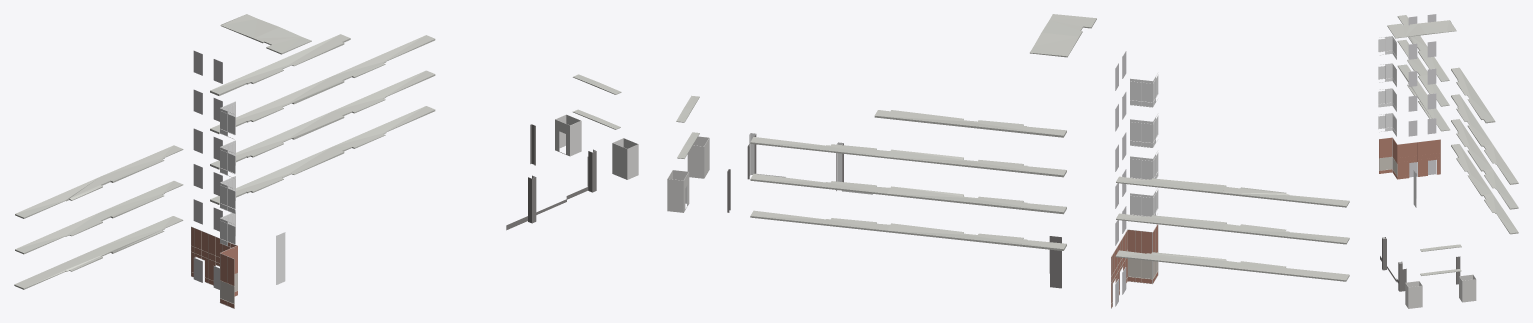
3 views of the same model, side by side, from view 1: azimuth 30°, elevation 25°; view 2: azimuth 150°, elevation 25°; view 3: azimuth 270°, elevation 25° (orthographic). The views are drawn at different scales.
Parts seen in each view (by area): view 1: 5473, 3424, 7540, 3423, 7539, 5472, 10760, 9278, 350; view 2: 5473, 7540, 3424, 3423, 7539, 5472, 10760, 9278, 377, 359, 484; view 3: 5473, 3424, 7540, 10760, 9278, 3423, 5472, 7539, 374, 356, 9284, 3429 (+16 smaller).
Part boxes in pixels (x1,y1,x2,y2): 5473: (210,70,435,169); 3424: (210,106,435,204); 7540: (210,35,435,133); 3423: (14,216,183,289); 7539: (15,145,183,218); 5472: (15,181,183,254); 10760: (220,14,311,54); 9278: (210,34,350,95); 350: (612,143,627,179); 5473: (750,174,1066,214); 7540: (750,137,1066,177); 3424: (750,210,1066,250); 3423: (1115,250,1349,281); 7539: (1116,176,1349,207); 5472: (1116,213,1349,244); 10760: (1030,14,1096,57); 9278: (874,110,1066,137); 377: (667,179,683,212); 359: (688,145,703,178); 484: (1049,249,1061,288); 5473: (1451,119,1518,209); 3424: (1451,144,1518,234); 7540: (1451,94,1518,184); 10760: (1387,20,1456,38); 9278: (1451,67,1495,123); 3423: (1397,64,1450,131); 5472: (1397,40,1449,106); 7539: (1397,15,1449,81); 374: (1462,279,1476,302); 356: (1408,285,1422,308); 9284: (1427,41,1436,57); 3429: (1408,120,1417,136).
Size of what is drawn, in the model's own units: 65.1 by 24.75 by 18.08.
